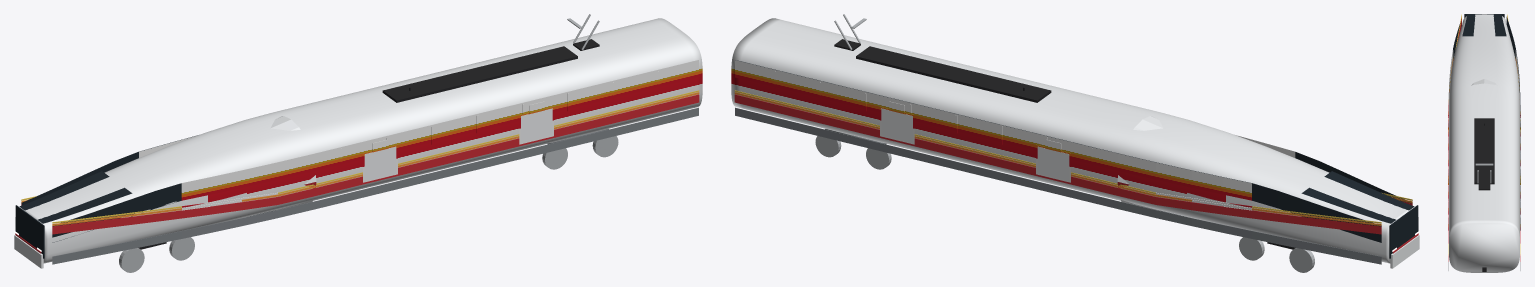
The model's file is cr400af-bs-head-lod-v011.glb.
3 views of the same model, side by side, from view 1: azimuth 30°, elevation 25°; view 2: azimuth 150°, elevation 25°; view 3: azimuth 270°, elevation 25° (orthographic). The views are drawn at different scales.
Parts seen in each view (by area): view 1: GEO-headcar-lod, GEO-door_-1_-0.6, GEO-door_-1_5.6, GEO-nose_fairing; view 2: GEO-headcar-lod, GEO-door_1_-0.6, GEO-door_1_5.6, GEO-nose_fairing; view 3: GEO-headcar-lod, GEO-nose_fairing.
Boxes of the visible parts, <box> form: GEO-headcar-lod: <box>14,14,702,272</box>; GEO-door_-1_-0.6: <box>364,146,396,180</box>; GEO-door_-1_5.6: <box>521,108,552,142</box>; GEO-nose_fairing: <box>250,116,316,216</box>; GEO-headcar-lod: <box>731,14,1419,272</box>; GEO-door_1_-0.6: <box>1037,146,1069,180</box>; GEO-door_1_5.6: <box>881,108,912,142</box>; GEO-nose_fairing: <box>1117,116,1183,216</box>; GEO-headcar-lod: <box>1448,14,1520,272</box>; GEO-nose_fairing: <box>1448,79,1520,115</box>.
Size of the model in its own units: 25.95 by 4.84 by 3.44.
Materials: 11 (1 with a texture image).
